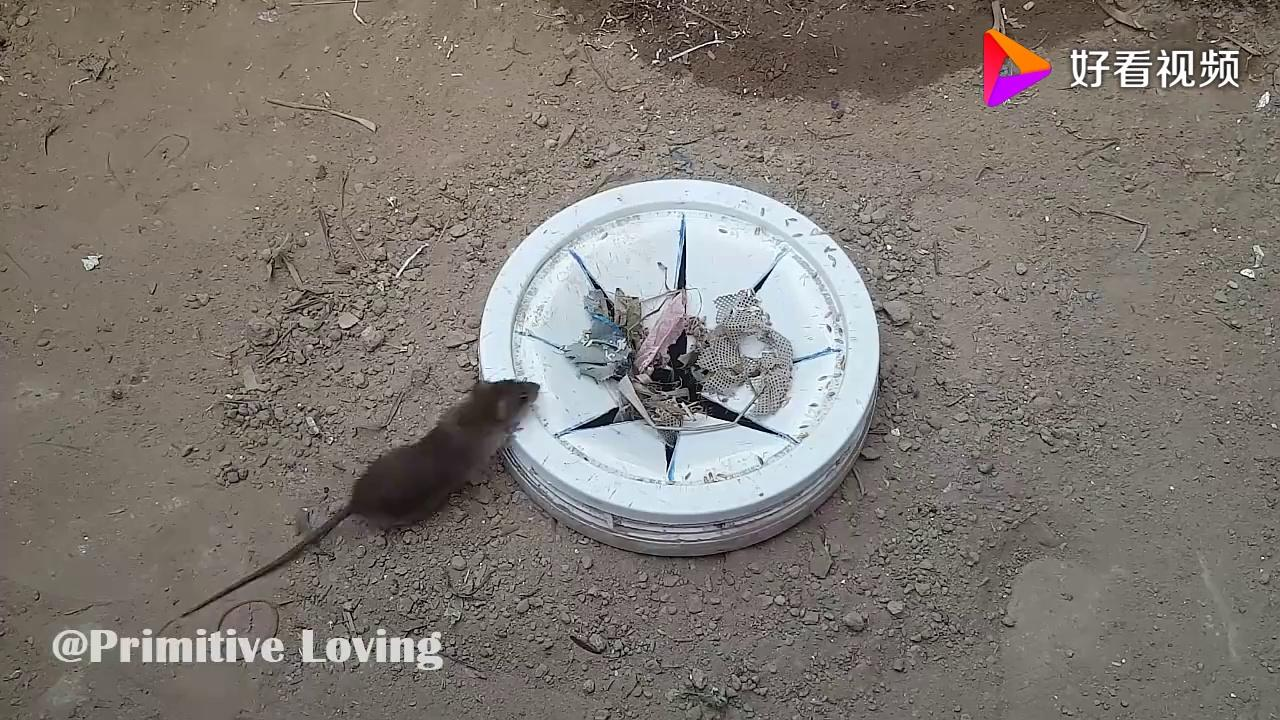rat: (259, 364, 546, 567)
